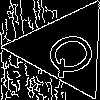Q: (40, 24, 100, 82)
